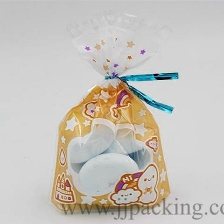snack: (42, 0, 189, 220)
